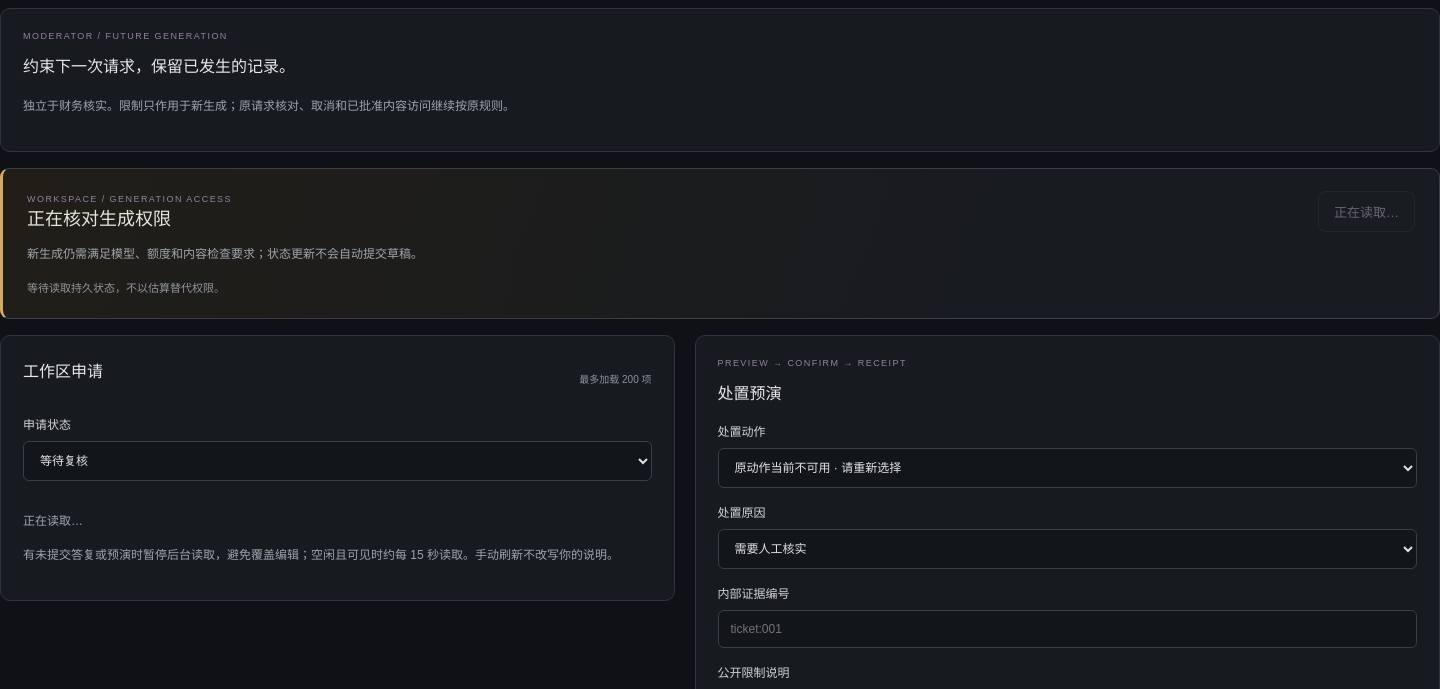
Test: actual React StrictMode reads and superseded requests › aborts a superseded moderator filter and never lets its late finally release the new read lock
Later steps or results of the test are not shown.
Select "已答复" in the dropdown labelled "申请状态" at (337, 461), box [23,441,652,481]
Wait 3000 ms
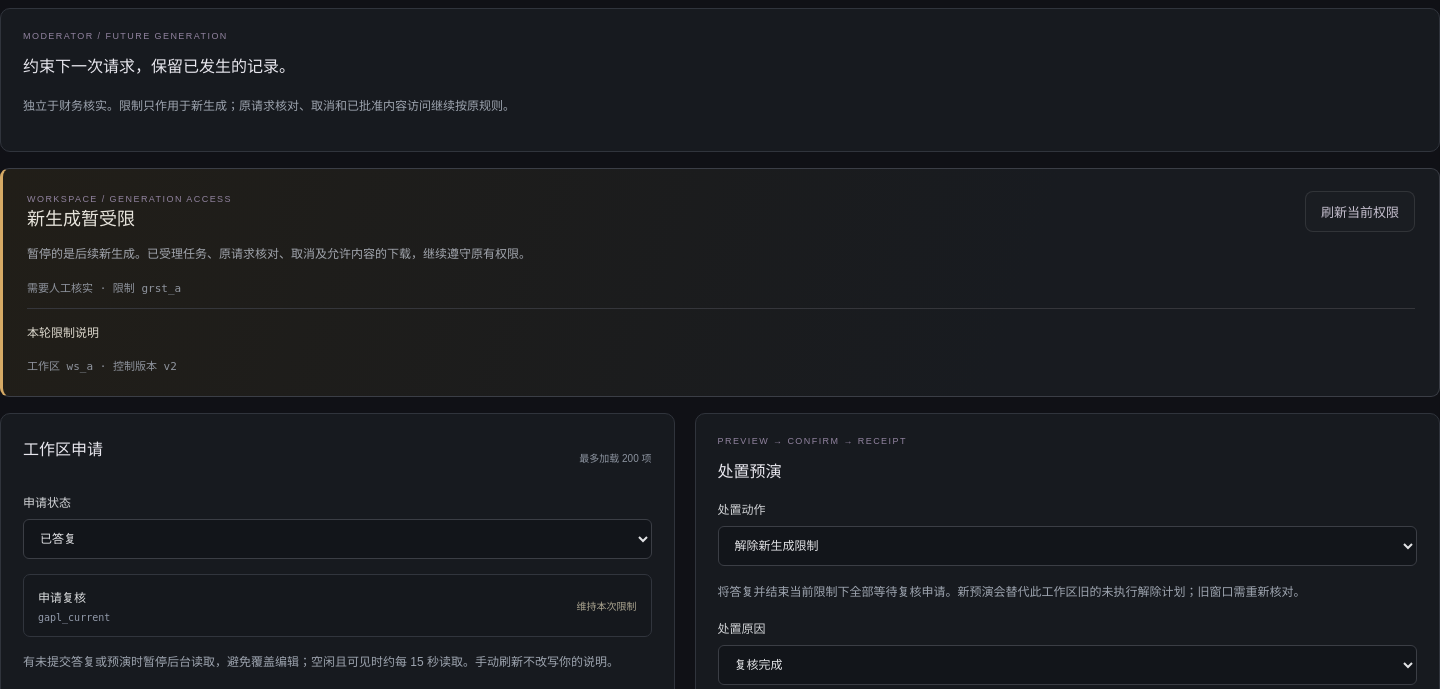
expect the button "刷新当前权限" is shown: met, box [1305,191,1415,232]
expect the text "新生成暂受限" is shown: met, box [27,209,135,229]
expect the text "gapl_current" is shown: met, box [38,612,110,623]
